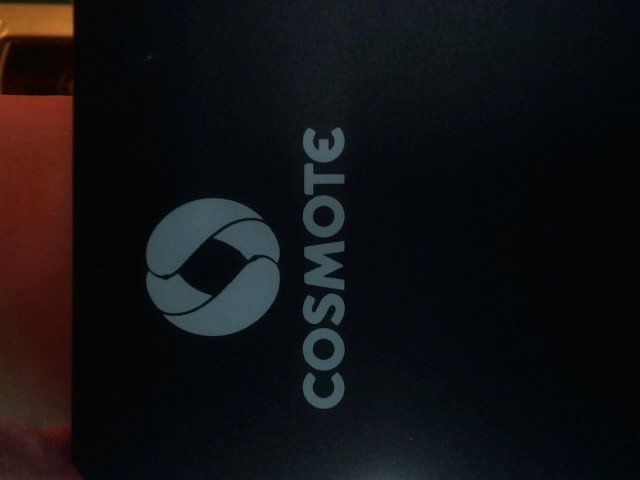AU_COSMOTE: (116, 102, 371, 413)
